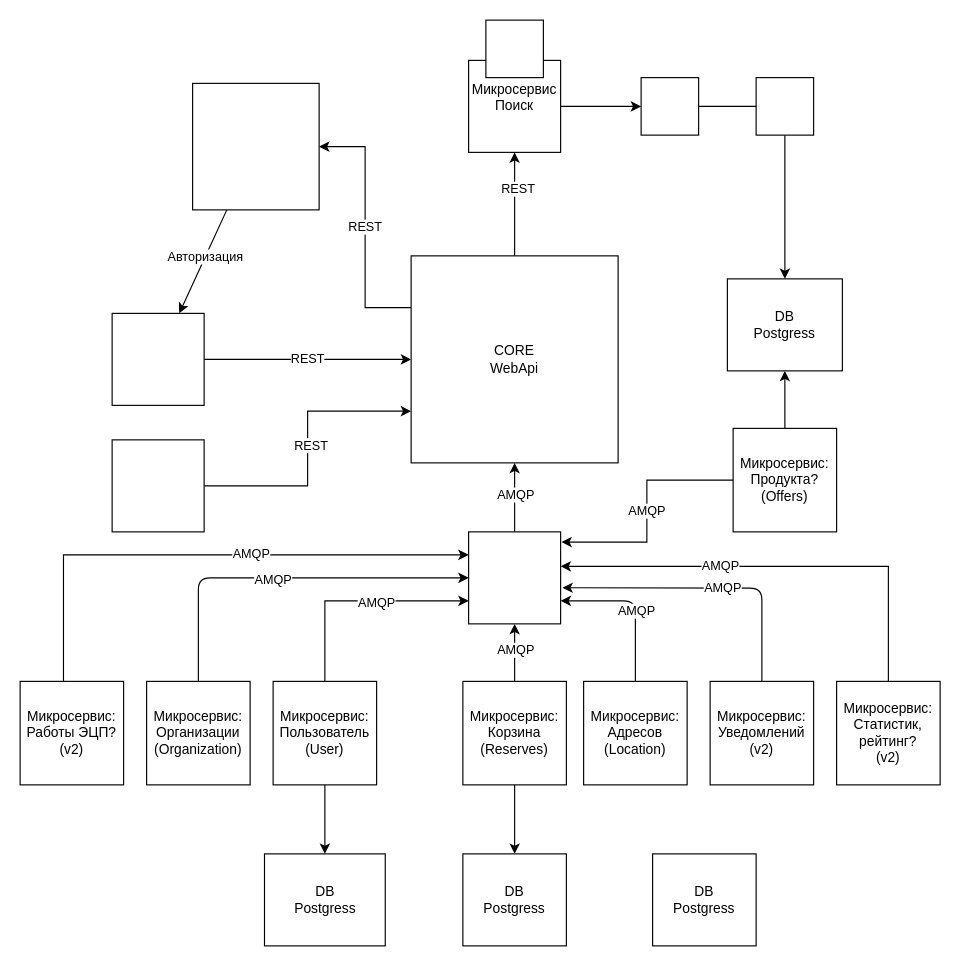
Image size: 960x966. Some labels were removed from this diagram. Here are the shapes that lost their labels. From the top down, the centre of each, then its label:
point 514,48: CACHE Redis
point 669,105: Elastic
point 784,105: logstash
point 255,146: IdentityServer4
point 157,358: UI
point 157,485: XAMARIN (v2)
point 514,577: Брокер сообщений
